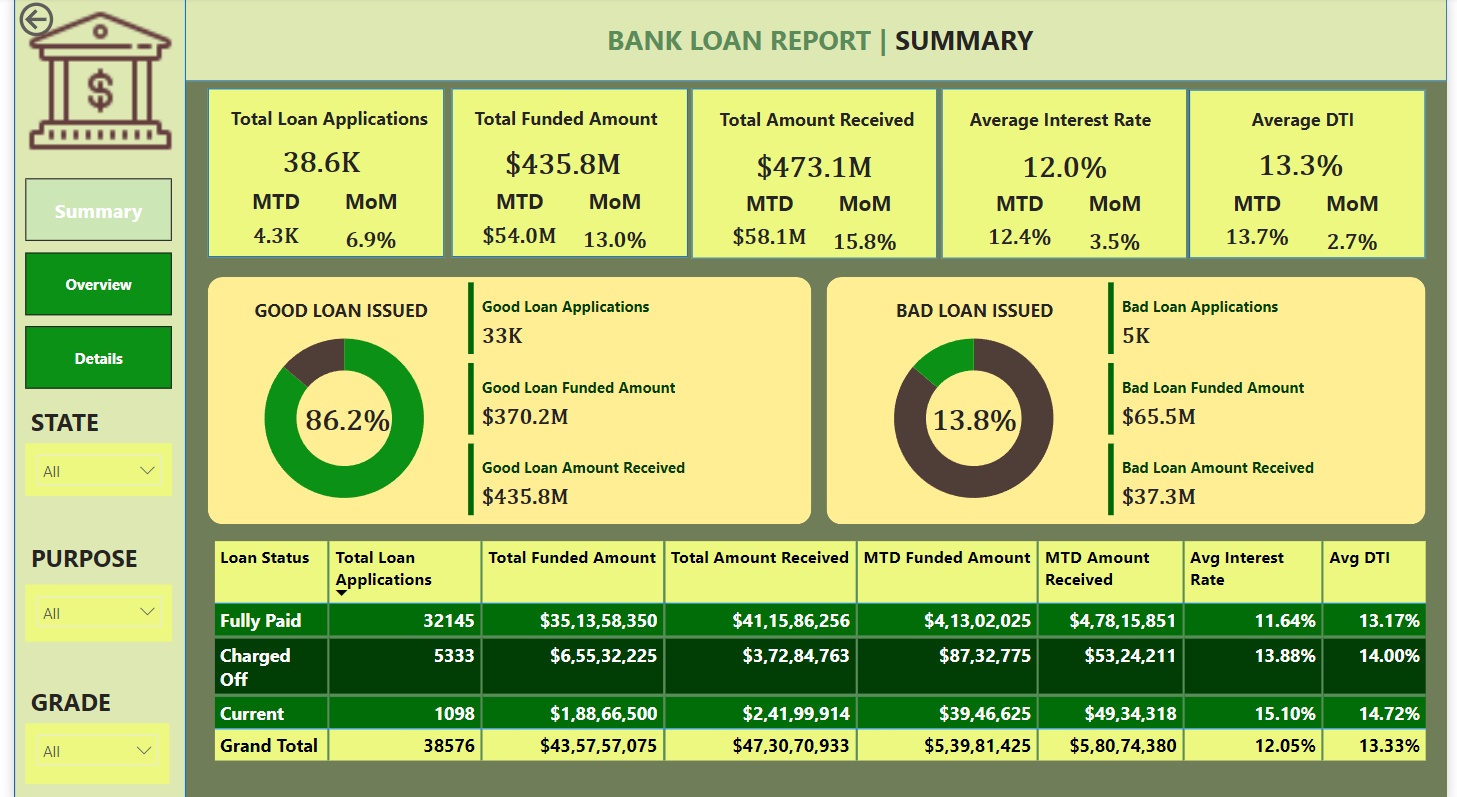

The dashboard page shown, as its layout file describes it:
{"tool":"powerbi","page":{"name":"Summary","canvas":[1280,720],"ordinal":0},"visuals":[{"type":"shape","box":[0,0,1280.3,75.5],"z":0},{"type":"shape","box":[172.9,81,211.3,150.9],"z":0,"group":"g1"},{"type":"shape","box":[391.1,81,211.3,150.9],"z":0,"group":"g2"},{"type":"shape","box":[605.1,81,219.6,152.3],"z":0,"group":"g3"},{"type":"shape","box":[828.8,81,219.6,152.3],"z":0,"group":"g5"},{"type":"shape","box":[1049.7,82.3,211.3,150.9],"z":0,"group":"g4"},{"type":"shape","box":[0,0,153.7,720.4],"z":1000},{"type":"card","fields":{"Values":["financial_loan.Total Loan Applications"]},"box":[218.2,116.7,111.1,59],"z":1000,"group":"g1"},{"type":"card","fields":{"Values":["financial_loan.Total Funded Amount"]},"box":[417,121.4,148.2,54.9],"z":1000,"group":"g2"},{"type":"card","fields":{"Values":["financial_loan.Avg DTI"]},"box":[1075.6,122.7,148.2,54.9],"z":1000,"group":"g4"},{"type":"card","fields":{"Values":["financial_loan.Total Amount Received"]},"box":[640.4,123.2,148.2,54.9],"z":1000,"group":"g3"},{"type":"card","fields":{"Values":["financial_loan.Avg Int Rate"]},"box":[864.1,123.2,148.2,54.9],"z":1000,"group":"g5"},{"type":"textbox","box":[524.3,17.1,428.6,47.1],"z":2000},{"type":"textbox","box":[183.9,90.6,200.3,45.3],"z":2000,"group":"g1"},{"type":"textbox","box":[402.1,90.6,200.3,45.3],"z":2000,"group":"g2"},{"type":"textbox","box":[1060.7,91.9,200.3,45.3],"z":2000,"group":"g4"},{"type":"textbox","box":[625.4,92.4,200.3,45.3],"z":2000,"group":"g3"},{"type":"textbox","box":[849.1,92.4,200.3,45.3],"z":2000,"group":"g5"},{"type":"group","id":"g1","title":"Group 1","box":[172.9,81,211.3,159.2],"z":3000},{"type":"card","title":"MTD","fields":{"Values":["financial_loan.MTD Loan Applications"]},"box":[182.5,168.8,101.5,63.1],"z":3000,"group":"g1"},{"type":"card","title":"MTD","fields":{"Values":["financial_loan.MTD Funded Amount"]},"box":[400.7,168.8,101.5,63.1],"z":3000,"group":"g2"},{"type":"card","title":"MTD","fields":{"Values":["financial_loan.MTD dti"]},"box":[1059.3,170.1,101.5,63.1],"z":3000,"group":"g4"},{"type":"card","title":"MTD","fields":{"Values":["financial_loan.MTD Amount Received"]},"box":[624.1,170.7,101.5,63.1],"z":3000,"group":"g3"},{"type":"card","title":"MTD","fields":{"Values":["financial_loan.MTD int rate"]},"box":[847.8,170.7,101.5,63.1],"z":3000,"group":"g5"},{"type":"group","id":"g2","title":"Group 1","box":[391.1,81,211.3,159.2],"z":4000},{"type":"card","title":"MoM","fields":{"Values":["financial_loan.MoM Loan Applications"]},"box":[278.6,168.8,79.6,71.4],"z":4000,"group":"g1"},{"type":"card","title":"MoM","fields":{"Values":["financial_loan.MoM funded amount"]},"box":[496.8,168.8,79.6,71.4],"z":4000,"group":"g2"},{"type":"card","title":"MoM","fields":{"Values":["financial_loan.MoM dti"]},"box":[1155.4,170.1,79.6,71.4],"z":4000,"group":"g4"},{"type":"card","title":"MoM","fields":{"Values":["financial_loan.MoM amount received"]},"box":[720.1,170.7,79.6,71.4],"z":4000,"group":"g3"},{"type":"card","title":"MoM","fields":{"Values":["financial_loan.MoM int rate"]},"box":[943.8,170.7,79.6,71.4],"z":4000,"group":"g5"},{"type":"group","id":"g3","title":"Group 1","box":[605.1,81,220.9,160.5],"z":5000},{"type":"actionButton","box":[0,0,100,40],"z":6000},{"type":"group","id":"g4","title":"Group 1","box":[1049.7,82.3,211.3,159.2],"z":7000},{"type":"group","id":"g5","title":"Group 1","box":[828.8,81,220.9,160.5],"z":8000},{"type":"shape","box":[172.9,249.7,539.3,220.9],"z":9000},{"type":"shape","box":[725.9,249.7,535.2,220.9],"z":10000},{"type":"donutChart","fields":{"Category":["financial_loan.Good VS Bad Loan"],"Y":["financial_loan.Total Loan Applications"]},"box":[172.9,282.7,244.3,188],"z":11000},{"type":"card","fields":{"Values":["financial_loan.Good Loan %age"]},"box":[205.8,338.9,185.2,76.8],"z":12000},{"type":"cardVisual","fields":{"Data":["financial_loan.Good Loan Applications","financial_loan.Good Loan Funded Amount","financial_loan.Good Loan Amount Received"]},"box":[400.7,249.7,274.4,220.9],"z":13000},{"type":"textbox","box":[205.8,263.5,178.4,39.8],"z":14000},{"type":"donutChart","fields":{"Category":["financial_loan.Good VS Bad Loan"],"Y":["financial_loan.Total Loan Applications"]},"box":[725.9,282.7,263.5,188],"z":15000},{"type":"card","fields":{"Values":["financial_loan.Bad Loan %age"]},"box":[778,338.9,159.2,76.8],"z":16000},{"type":"cardVisual","fields":{"Data":["financial_loan.Bad Loan Applications","financial_loan.Bad Loan Funded Amount","financial_loan.Bad Loan Amount Received"]},"box":[972.9,249.7,274.4,220.9],"z":17000},{"type":"textbox","box":[778,263.5,171.5,39.8],"z":18000},{"type":"tableEx","fields":{"Values":["financial_loan.loan_status","financial_loan.Total Loan Applications","financial_loan.Total Funded Amount","financial_loan.Total Amount Received","financial_loan.MTD Funded Amount","financial_loan.MTD Amount Received","financial_loan.Avg Int Rate","financial_loan.Avg DTI"]},"box":[172.9,481.4,1107.1,221.4],"z":19000},{"type":"slicer","fields":{"Values":["financial_loan.address_state"]},"box":[10,398.6,131.4,47.1],"z":20000},{"type":"slicer","fields":{"Values":["financial_loan.purpose"]},"box":[10,524.3,131.4,51.4],"z":21000},{"type":"slicer","fields":{"Values":["financial_loan.grade"]},"box":[10,648.6,128.6,54.3],"z":22000},{"type":"textbox","box":[10,610,90,38.6],"z":23000},{"type":"textbox","box":[10,481.4,128.6,42.9],"z":24000},{"type":"textbox","box":[10,360,90,38.6],"z":25000},{"type":"image","box":[0,0,153.7,149.6],"z":25001},{"type":"pageNavigator","box":[9.6,161.9,131.7,190.7],"z":25002}]}

Visuals, with their boxes in screenshot pixels (x1, y1, x2, y2), scaled from the page's 1280x720 canvas onto the 1457x797 screenshot:
shape: rect(0, 0, 1456, 84)
shape: rect(197, 90, 437, 257)
shape: rect(445, 90, 686, 257)
shape: rect(689, 90, 939, 258)
shape: rect(943, 90, 1193, 258)
shape: rect(1195, 91, 1435, 258)
shape: rect(0, 0, 175, 796)
card - financial_loan.Total Loan Applications: rect(248, 129, 375, 194)
card - financial_loan.Total Funded Amount: rect(475, 134, 643, 195)
card - financial_loan.Avg DTI: rect(1224, 136, 1393, 197)
card - financial_loan.Total Amount Received: rect(729, 136, 898, 197)
card - financial_loan.Avg Int Rate: rect(984, 136, 1152, 197)
textbox: rect(597, 19, 1085, 71)
textbox: rect(209, 100, 437, 150)
textbox: rect(458, 100, 686, 150)
textbox: rect(1207, 102, 1435, 152)
textbox: rect(712, 102, 940, 152)
textbox: rect(967, 102, 1195, 152)
"Group 1" group: rect(197, 90, 437, 266)
"MTD" card: rect(208, 187, 323, 257)
"MTD" card: rect(456, 187, 572, 257)
"MTD" card: rect(1206, 188, 1321, 258)
"MTD" card: rect(710, 189, 826, 259)
"MTD" card: rect(965, 189, 1081, 259)
"Group 1" group: rect(445, 90, 686, 266)
"MoM" card: rect(317, 187, 408, 266)
"MoM" card: rect(565, 187, 656, 266)
"MoM" card: rect(1315, 188, 1406, 267)
"MoM" card: rect(820, 189, 910, 268)
"MoM" card: rect(1074, 189, 1165, 268)
"Group 1" group: rect(689, 90, 940, 267)
actionButton: rect(0, 0, 114, 44)
"Group 1" group: rect(1195, 91, 1435, 267)
"Group 1" group: rect(943, 90, 1195, 267)
shape: rect(197, 276, 811, 521)
shape: rect(826, 276, 1435, 521)
donutChart - financial_loan.Good VS Bad Loan x financial_loan.Total Loan Applications: rect(197, 313, 475, 521)
card - financial_loan.Good Loan %age: rect(234, 375, 445, 460)
cardVisual - financial_loan.Good Loan Applications x financial_loan.Good Loan Funded Amount: rect(456, 276, 768, 521)
textbox: rect(234, 292, 437, 336)
donutChart - financial_loan.Good VS Bad Loan x financial_loan.Total Loan Applications: rect(826, 313, 1126, 521)
card - financial_loan.Bad Loan %age: rect(886, 375, 1067, 460)
cardVisual - financial_loan.Bad Loan Applications x financial_loan.Bad Loan Funded Amount: rect(1107, 276, 1420, 521)
textbox: rect(886, 292, 1081, 336)
tableEx - financial_loan.loan_status x financial_loan.Total Loan Applications: rect(197, 533, 1456, 778)
slicer - financial_loan.address_state: rect(11, 441, 161, 493)
slicer - financial_loan.purpose: rect(11, 580, 161, 637)
slicer - financial_loan.grade: rect(11, 718, 158, 778)
textbox: rect(11, 675, 114, 718)
textbox: rect(11, 533, 158, 580)
textbox: rect(11, 398, 114, 441)
image: rect(0, 0, 175, 166)
pageNavigator: rect(11, 179, 161, 390)
